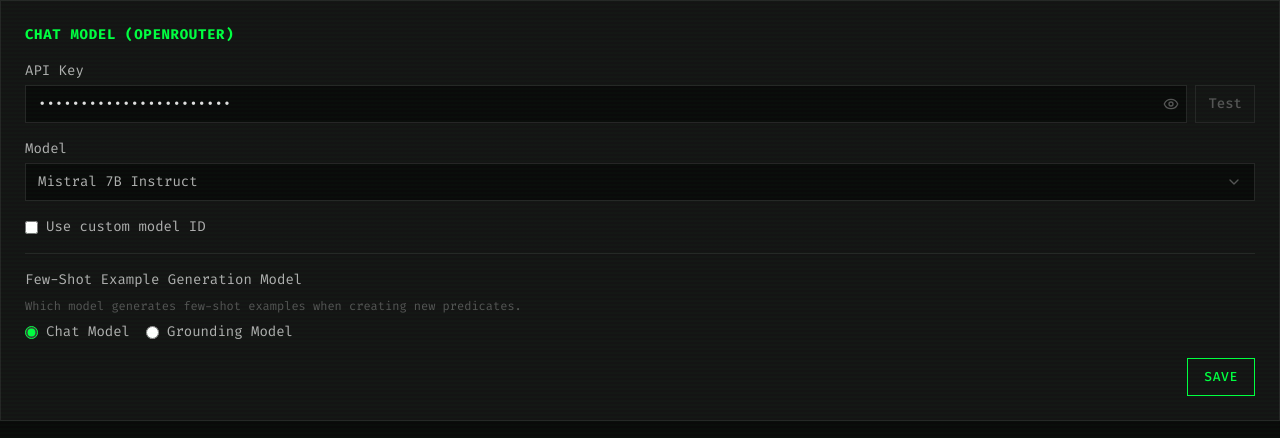
Test: OpenRouterConfig › clicking eye toggle switches input type to text and back
This screenshot has width=1280, height=438.
Click the button with test id "toggle-api-key-visibility" at (1171, 104), box left=1163, top=96, right=1179, bottom=112
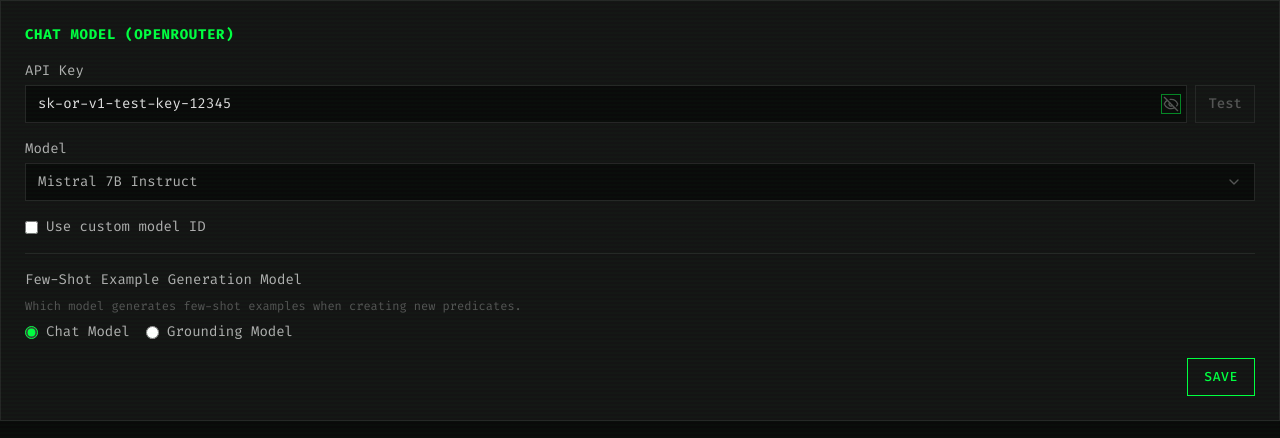
Expected: the field with test id "openrouter-api-key" shows its text, left=25, top=85, right=1187, bottom=123
Click the button with test id "toggle-api-key-visibility" at (1171, 104), box left=1163, top=96, right=1179, bottom=112
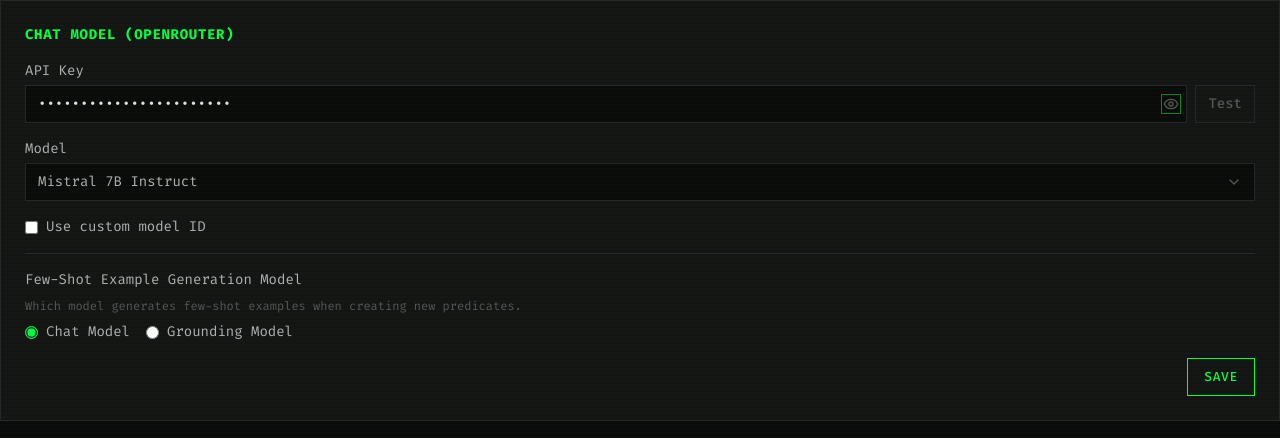
Expected: the password field with test id "openrouter-api-key" hides its text, left=25, top=85, right=1187, bottom=123
